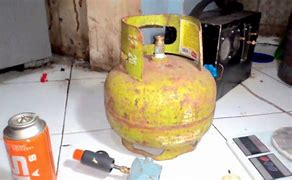gas_ijo: (106, 14, 218, 159)
